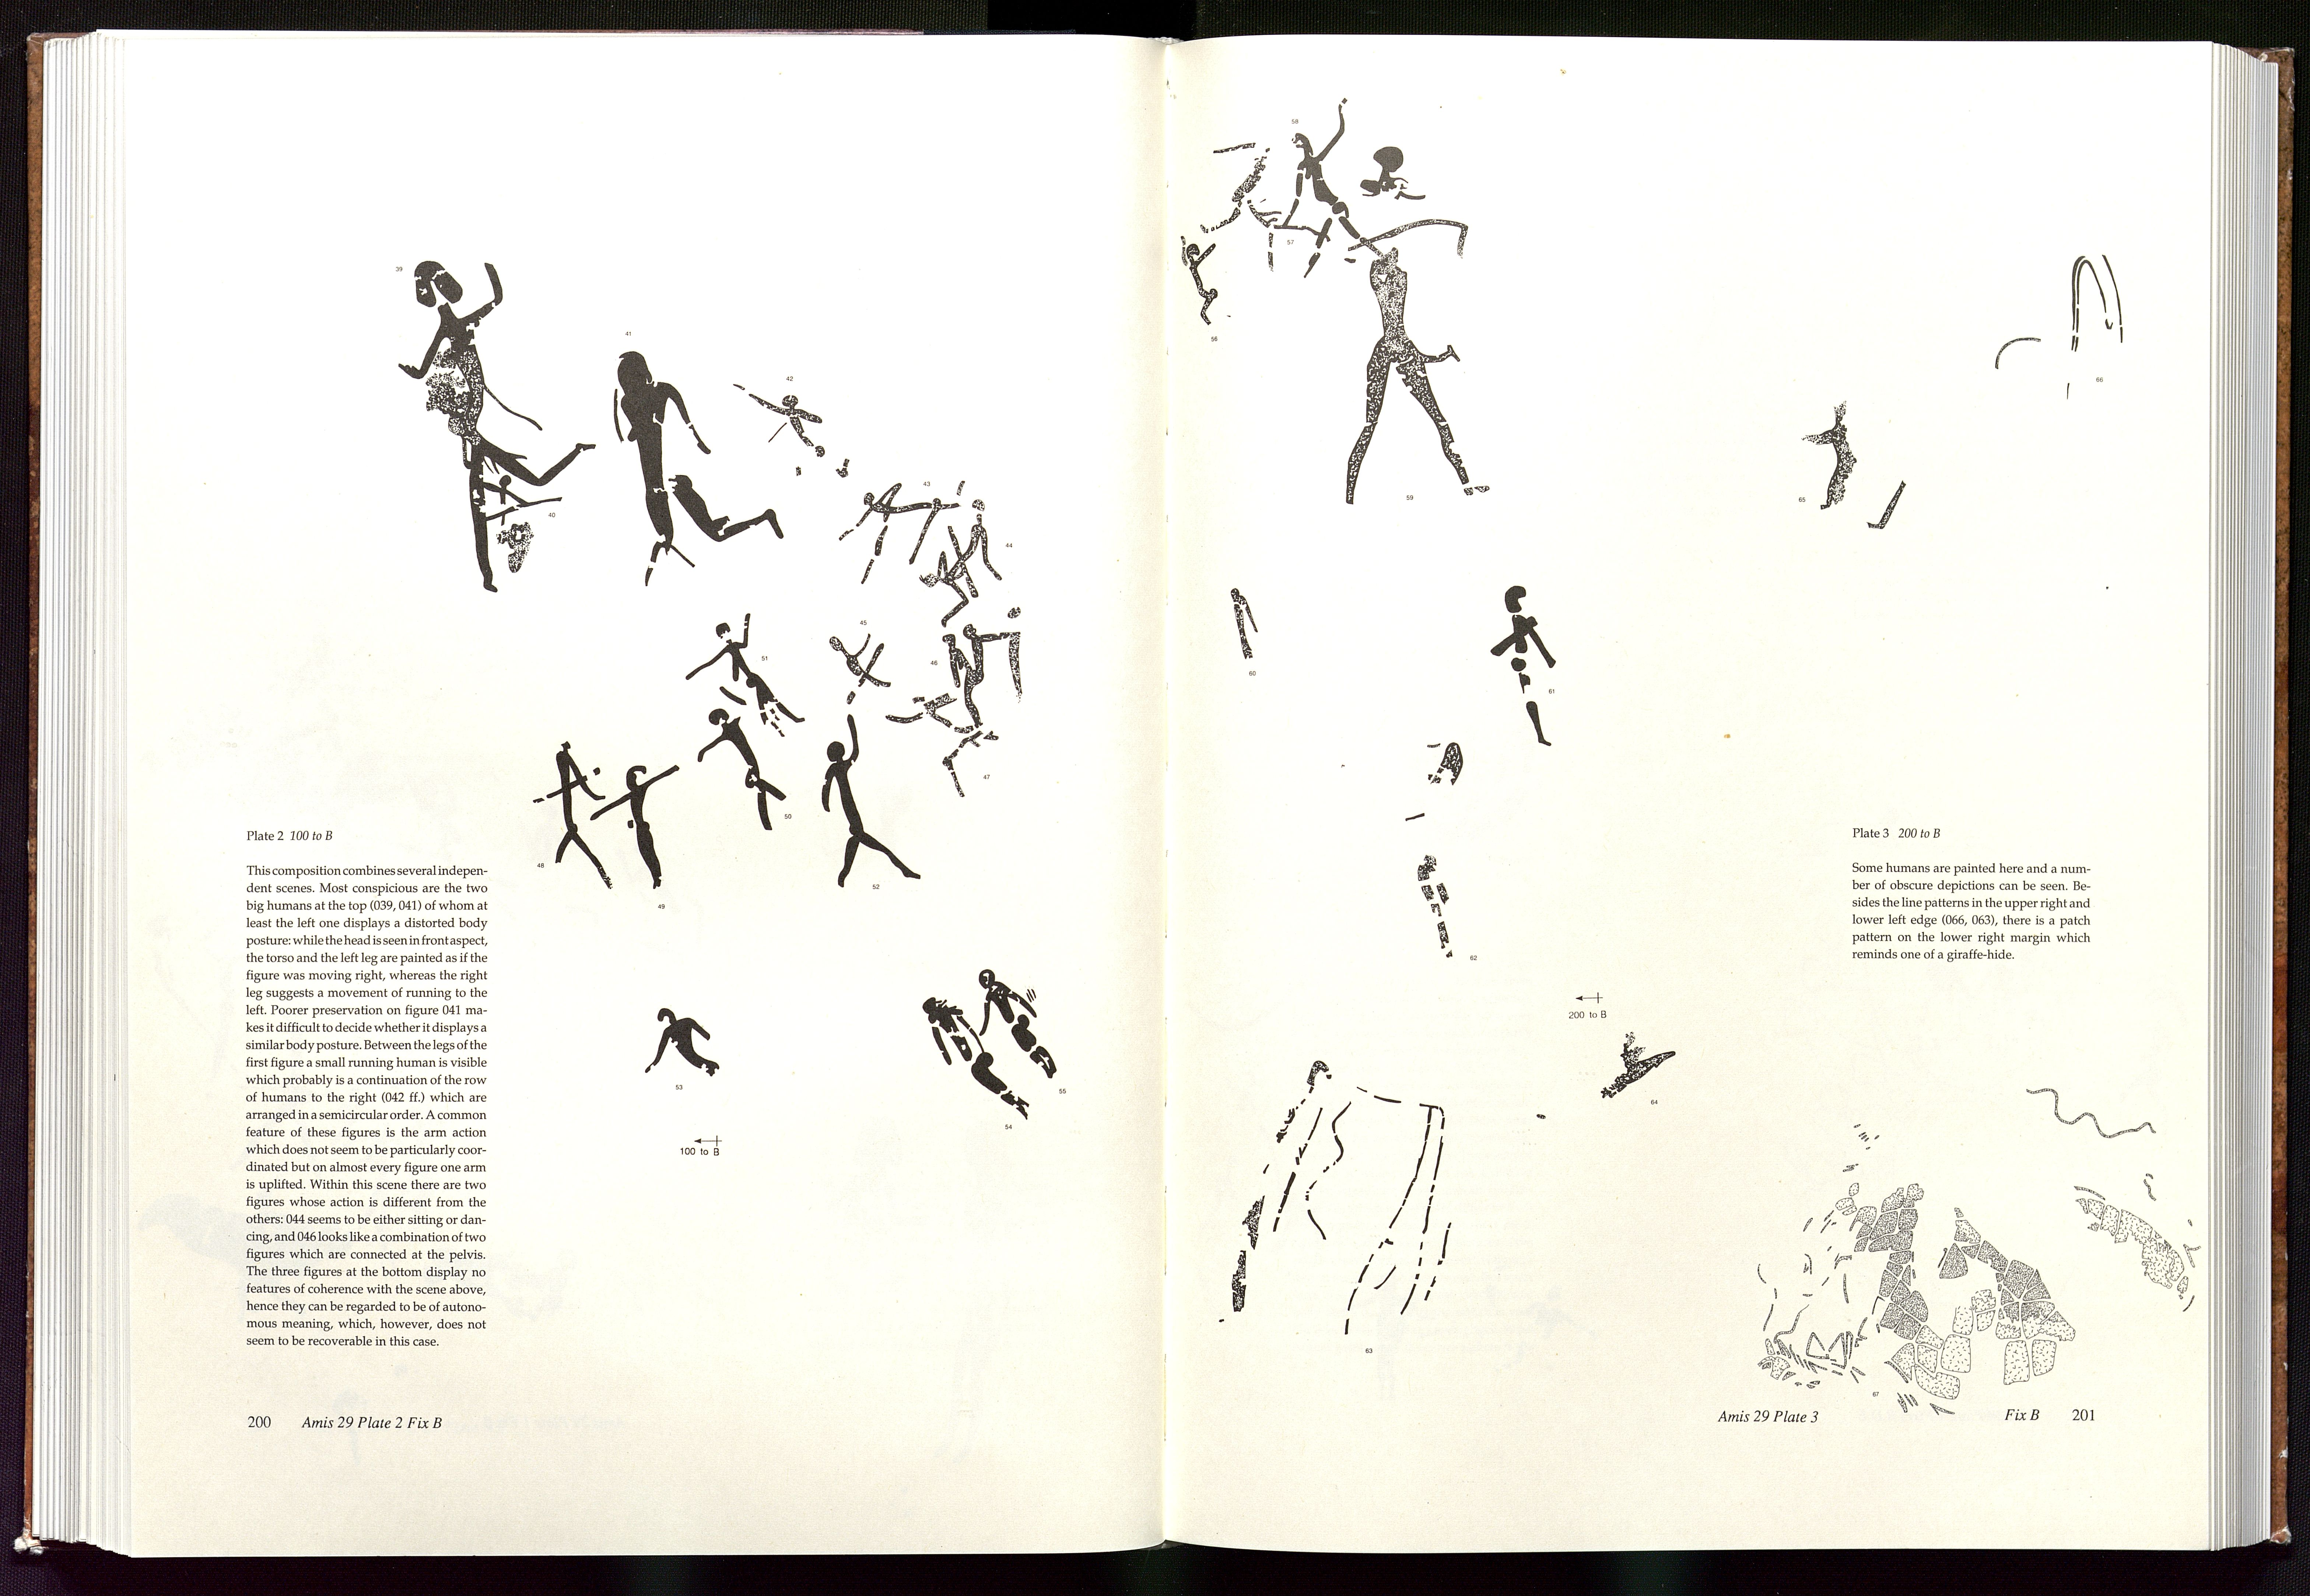human: (390, 246, 601, 615), (1323, 129, 1500, 517), (601, 342, 790, 595), (716, 364, 866, 502), (687, 698, 802, 850), (1284, 97, 1382, 274), (589, 757, 692, 922), (920, 996, 1041, 1136), (881, 684, 1006, 811), (687, 607, 814, 725), (1490, 576, 1566, 765), (537, 730, 613, 897), (1198, 116, 1296, 242), (967, 961, 1063, 1086), (1790, 382, 1863, 519), (937, 620, 1023, 735), (643, 1005, 748, 1091), (940, 495, 1001, 622), (824, 625, 910, 706)
